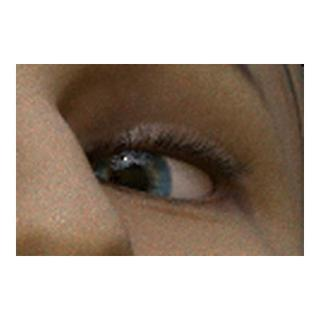pupil: (111, 164, 148, 201)
